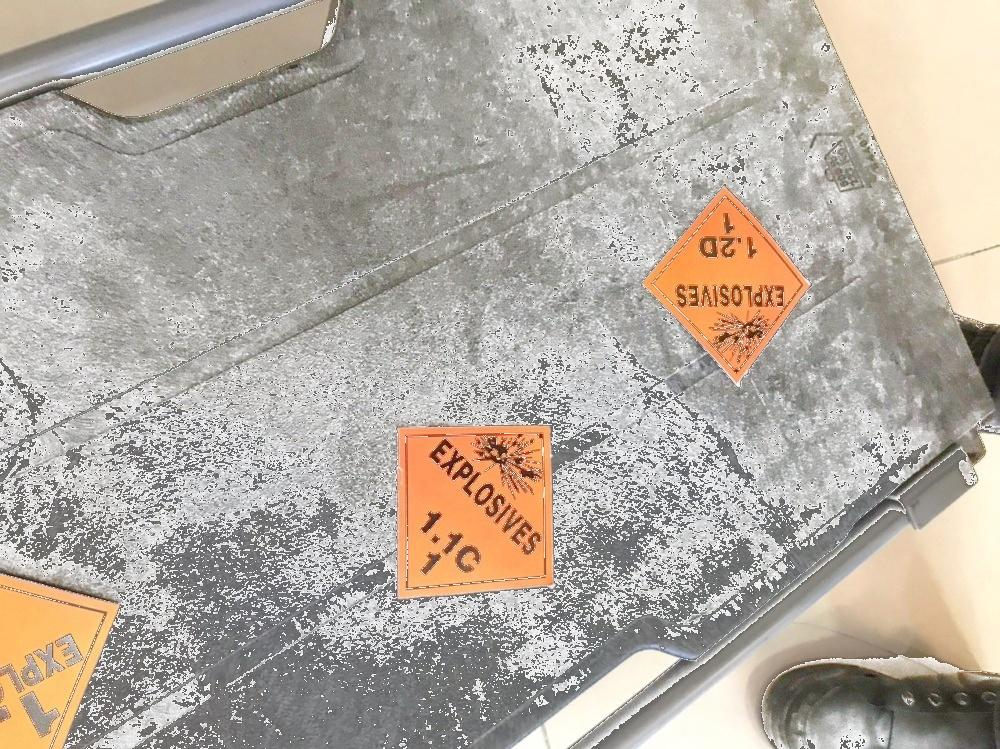explosive: (393, 426, 556, 600)
radioactive: (637, 181, 815, 389)
